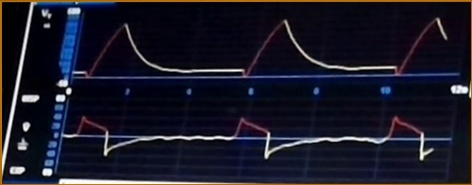Flow: (68, 108, 438, 179)
Leakage Volume: (78, 16, 458, 83)
